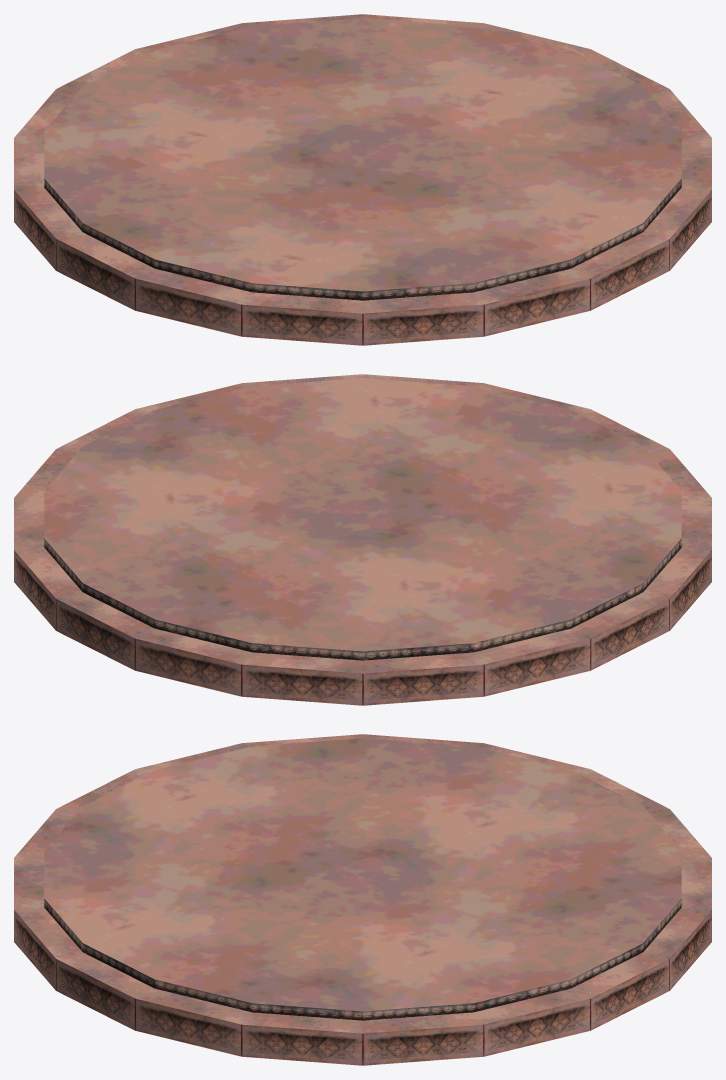
The model's file is PuzzlePlatform1.fbx.
The picture shows the model from 3 angles, top to bottom: view 1: azimuth 30°, elevation 25°; view 2: azimuth 150°, elevation 25°; view 3: azimuth 270°, elevation 25°; orthographic projection.
Parts seen in each view (by area): view 1: Cylinder007; view 2: Cylinder007; view 3: Cylinder007.
Boxes of the visible parts, box(x1,y1,x2,y2) form: Cylinder007: box(14, 14, 711, 345); Cylinder007: box(14, 374, 711, 705); Cylinder007: box(14, 734, 711, 1065).
Bounding box in the file's own units: 700 × 689 × 45.
